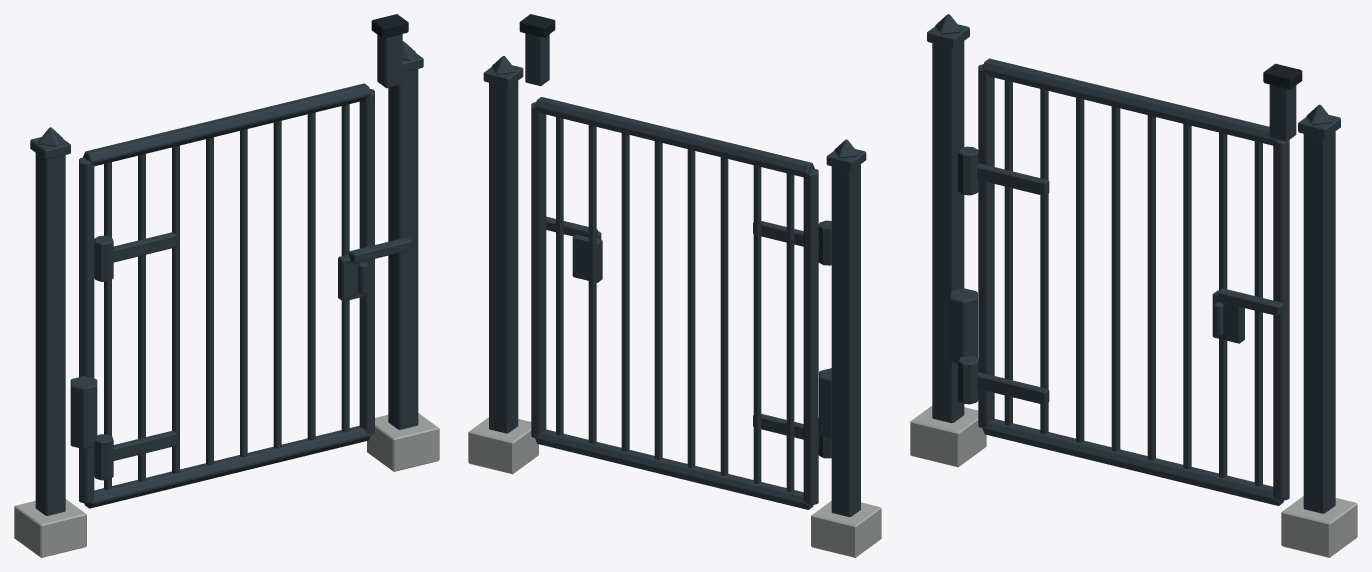
Rendered from b19_self_closing_pool_gate.glb.
3 renders of one model, left to right at view 1: azimuth 30°, elevation 25°; view 2: azimuth 150°, elevation 25°; view 3: azimuth 330°, elevation 25°, orthographic. The views are drawn at different scales.
Parts seen in each view (by area): view 1: b19_self_closing_pool_gate; view 2: b19_self_closing_pool_gate; view 3: b19_self_closing_pool_gate.
Part boxes in pixels (<box>): b19_self_closing_pool_gate: <box>14,14,439,557</box>; b19_self_closing_pool_gate: <box>468,14,881,557</box>; b19_self_closing_pool_gate: <box>910,14,1357,557</box>.
Bounding box in the file's own units: 1.5 × 1.61 × 0.2822.
